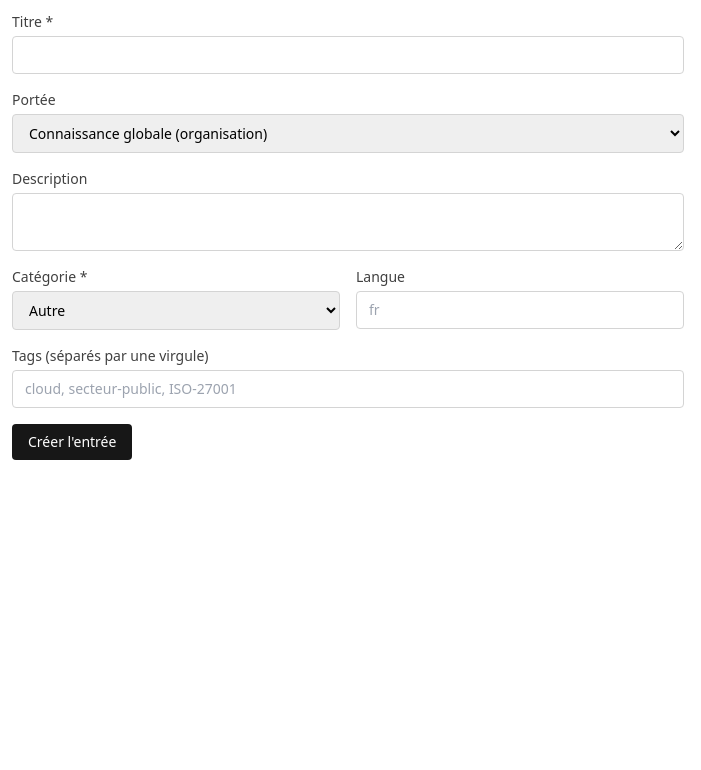
CreateKnowledgeEntryForm › reveals CONSULTANT_PROFILE metadata fields when that category is selected
The image size is (701, 770).
Select "Profil consultant" in the dropdown labelled "Catégorie *": (176, 310) [12,291,340,330]
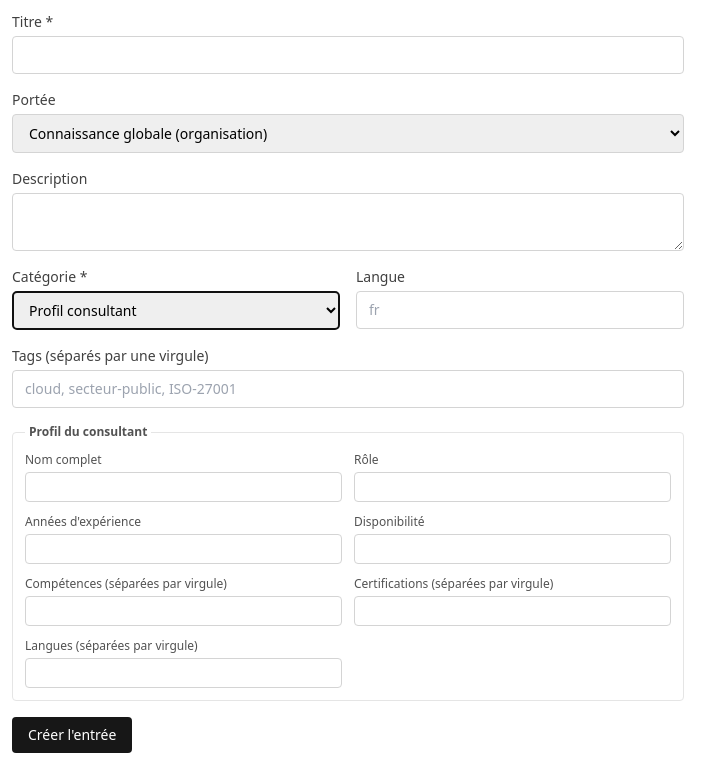
Result: the field labelled "Nom complet" is shown at [25,472,342,502]
Result: the number field labelled "Années d'expérience" is shown at [25,534,342,564]
